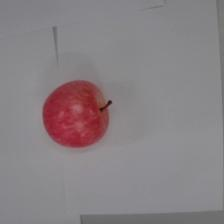red: (42, 78, 111, 149)
